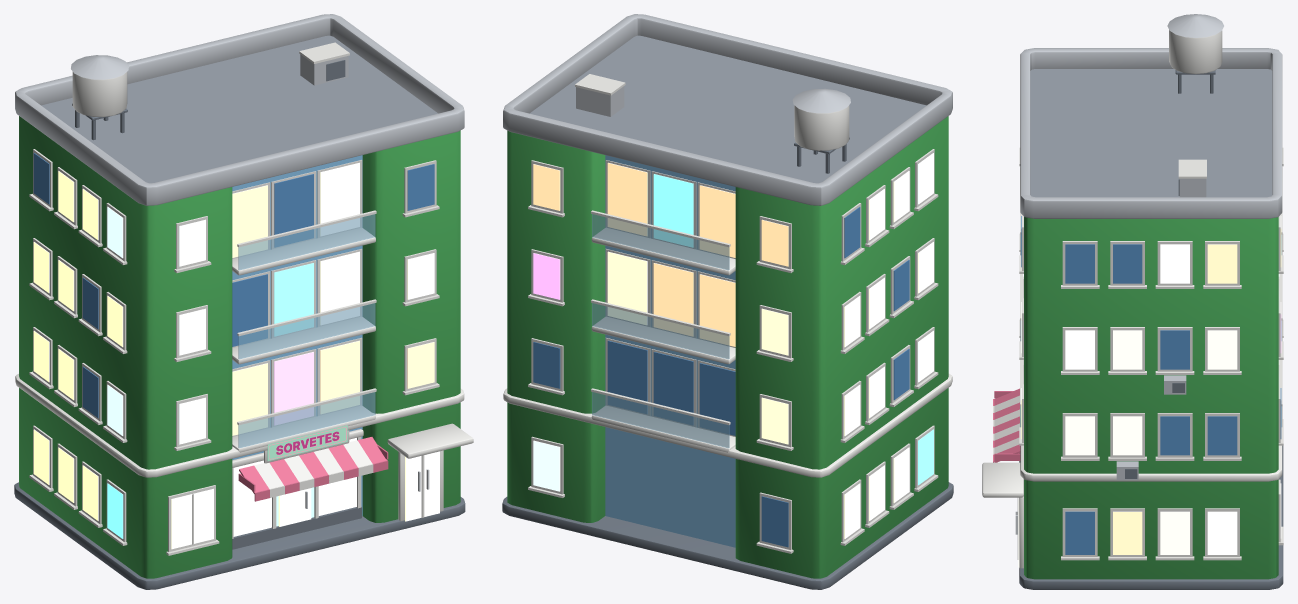
File: apto_verde_azul_sorveteria.glb
The picture shows the model from 3 angles, left to right: view 1: azimuth 30°, elevation 25°; view 2: azimuth 150°, elevation 25°; view 3: azimuth 270°, elevation 25°; orthographic projection. The views are drawn at different scales.
Visible parts, largest first — view 1: apto_verde_azul_sorveteria; view 2: apto_verde_azul_sorveteria; view 3: apto_verde_azul_sorveteria.
Boxes of the visible parts, bbox=[...] form: apto_verde_azul_sorveteria: bbox=[14, 14, 473, 589]; apto_verde_azul_sorveteria: bbox=[502, 14, 953, 589]; apto_verde_azul_sorveteria: bbox=[982, 14, 1283, 589].
Size of the model in its own units: 12.65 by 16.45 by 10.16.
10 materials, 2 textured.
